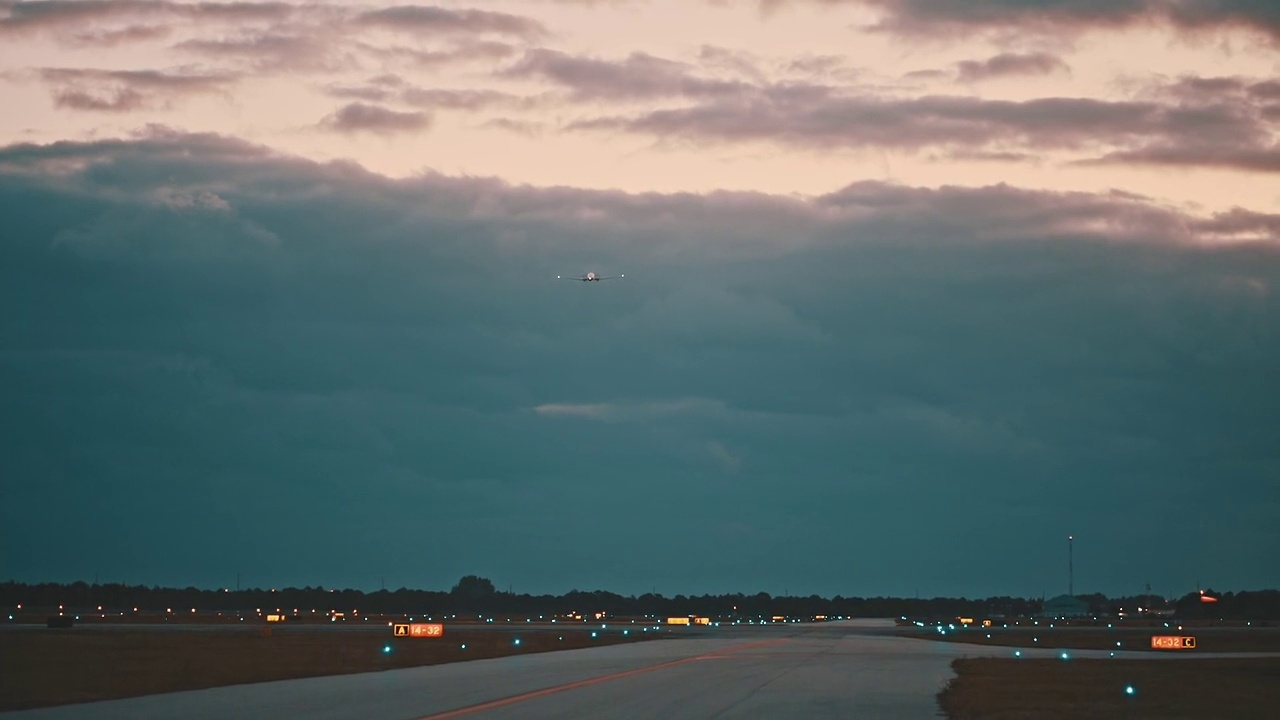plane: (556, 266, 624, 282)
